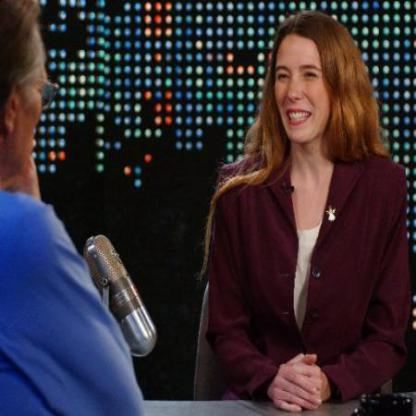face: (273, 18, 342, 146)
